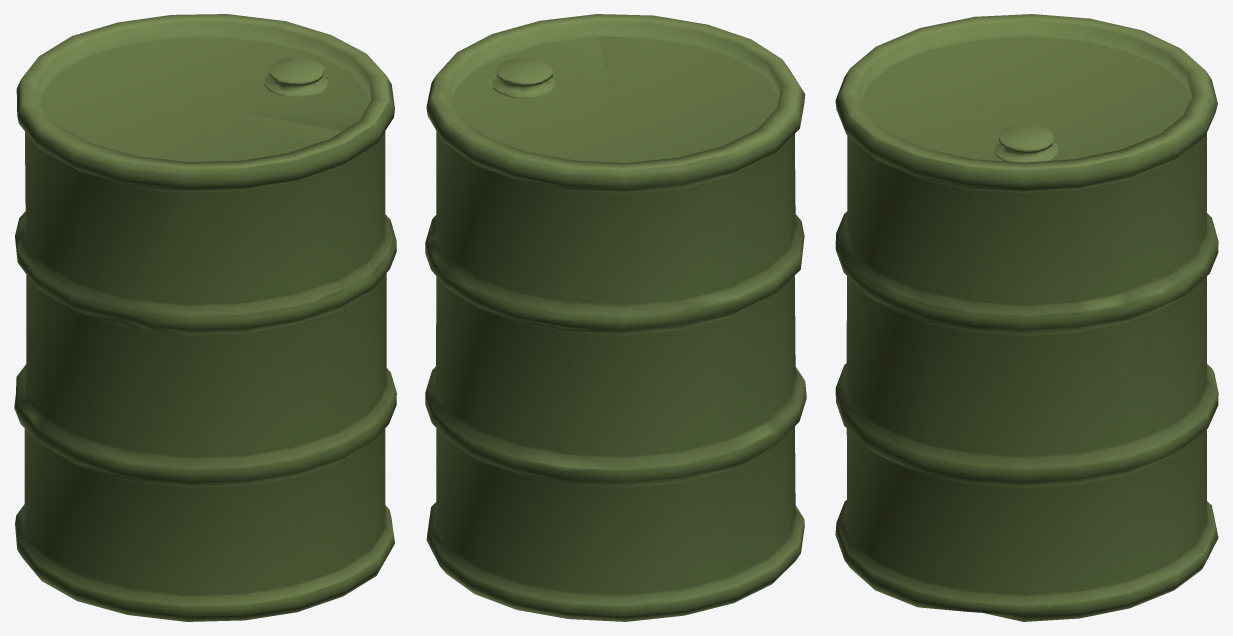
Rendered from barrel.glb.
3 renders of one model, left to right at view 1: azimuth 30°, elevation 25°; view 2: azimuth 150°, elevation 25°; view 3: azimuth 270°, elevation 25°, orthographic.
Bounding box in the file's own units: 0.7261 × 0.9502 × 0.7295.
Materials: 1 (1 with a texture image).
